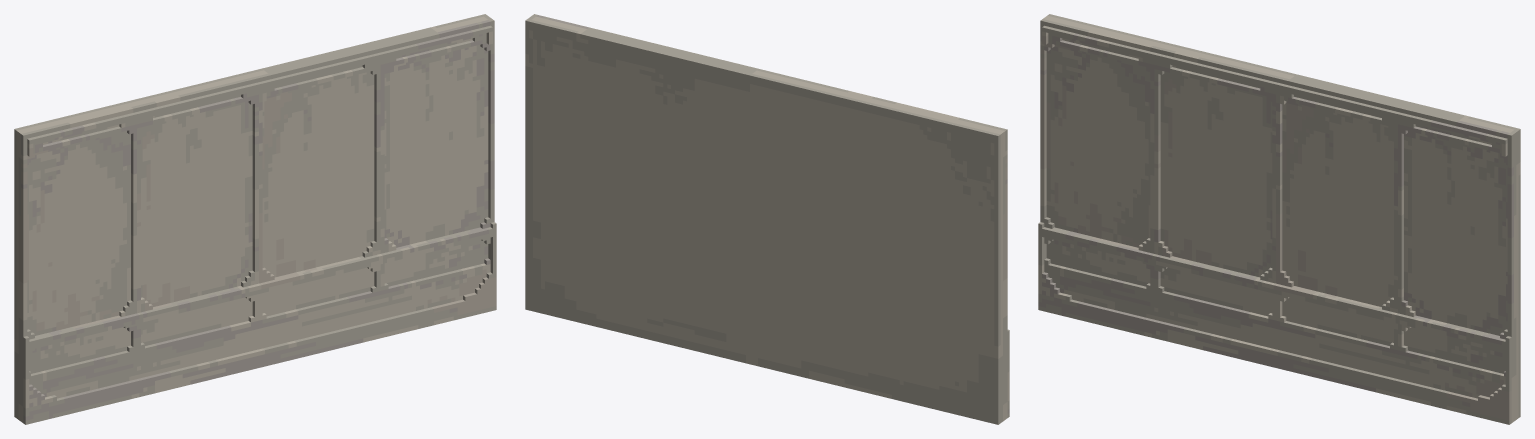
File: Wall-0.obj
3 renders of one model, left to right at view 1: azimuth 30°, elevation 25°; view 2: azimuth 150°, elevation 25°; view 3: azimuth 330°, elevation 25°, orthographic.
Size of the model in its own units: 12 by 7 by 0.5.
1 material, 1 textured.
